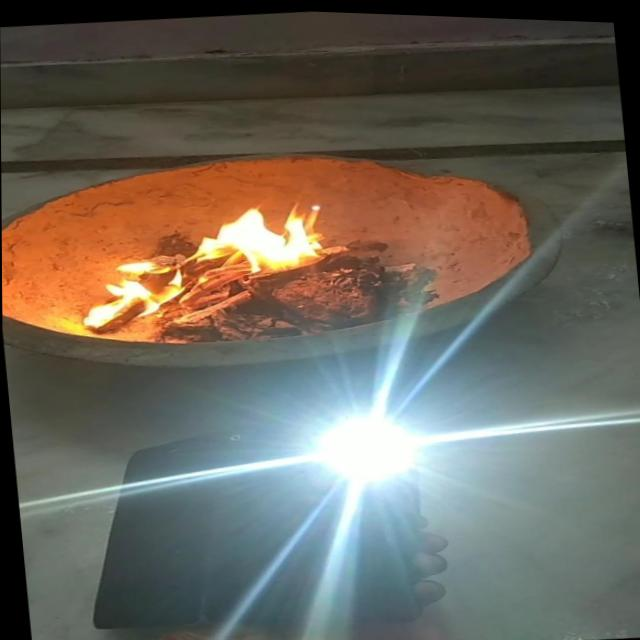fire: (182, 185, 345, 283), (64, 247, 196, 338)
